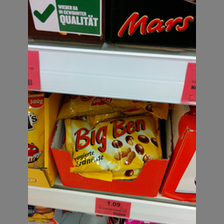chocolate: (64, 118, 160, 173)
